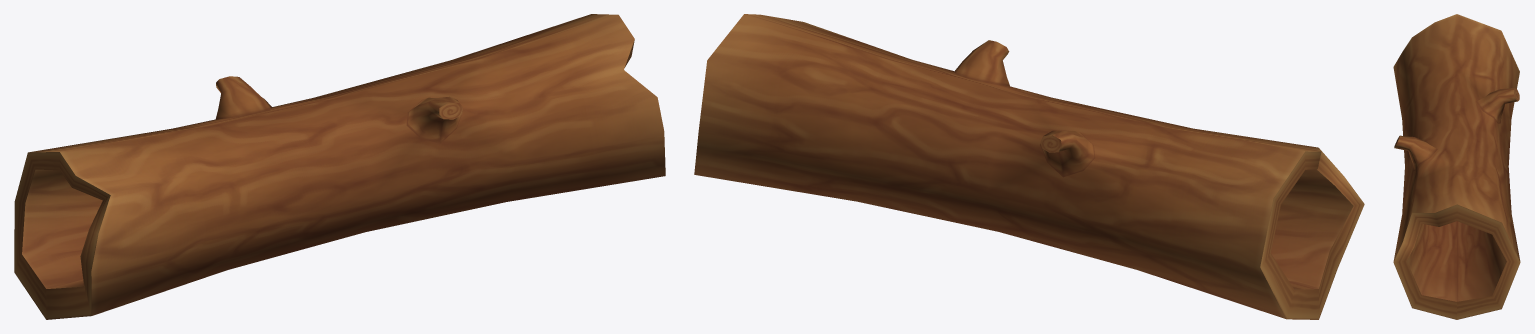
File: Log #3.fbx
3 views of the same model, side by side, from view 1: azimuth 30°, elevation 25°; view 2: azimuth 150°, elevation 25°; view 3: azimuth 270°, elevation 25° (orthographic). The views are drawn at different scales.
Visible parts, largest first — view 1: Log #3; view 2: Log #3; view 3: Log #3.
Part boxes in pixels (<box>): Log #3: <box>14,14,665,319</box>; Log #3: <box>694,14,1364,319</box>; Log #3: <box>1393,14,1520,319</box>.
Size of the model in its own units: 221 by 59.05 by 58.82.
1 material, 1 textured.
